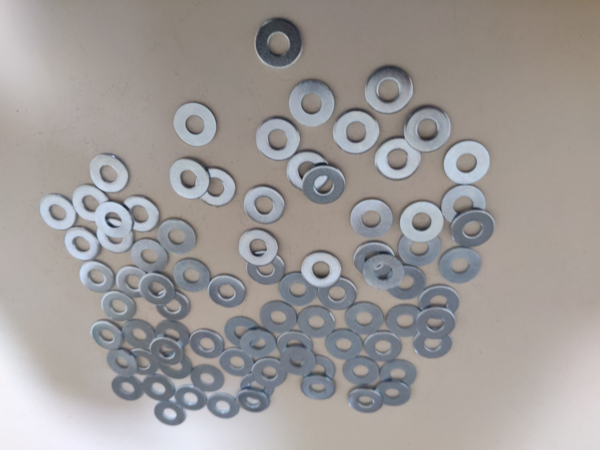circle: (255, 18, 304, 69), (365, 66, 413, 114), (405, 105, 451, 154), (289, 78, 334, 127), (332, 110, 380, 154), (444, 141, 490, 185), (256, 117, 301, 161), (376, 136, 420, 181), (173, 103, 219, 146), (400, 200, 445, 242), (442, 184, 486, 226), (302, 165, 346, 205), (287, 151, 331, 191), (244, 185, 287, 225), (89, 152, 130, 193), (170, 157, 210, 199), (350, 199, 393, 238), (196, 167, 237, 207), (451, 211, 494, 248), (364, 252, 404, 291), (439, 248, 482, 284), (397, 231, 441, 266), (239, 228, 279, 266), (301, 252, 343, 288), (354, 242, 396, 278), (385, 265, 426, 301), (317, 275, 357, 311), (122, 195, 159, 233), (71, 184, 109, 221), (39, 194, 78, 230), (247, 250, 286, 286), (418, 285, 458, 320), (96, 201, 133, 238), (97, 218, 135, 254), (158, 219, 197, 254), (278, 275, 317, 310), (385, 304, 424, 339), (173, 258, 211, 293), (345, 302, 384, 336), (130, 240, 168, 274), (209, 274, 247, 308), (298, 306, 336, 340), (417, 307, 456, 340), (413, 327, 453, 359), (64, 227, 101, 261), (260, 300, 297, 334), (325, 329, 363, 362), (78, 260, 115, 293), (116, 265, 152, 298), (139, 273, 175, 306), (224, 317, 261, 348), (240, 329, 277, 359), (364, 332, 401, 362), (379, 361, 417, 390), (102, 290, 135, 323), (122, 320, 156, 352), (157, 290, 192, 321), (277, 331, 313, 361), (280, 346, 316, 376), (240, 370, 276, 400), (155, 320, 191, 350), (91, 320, 125, 351), (252, 357, 287, 387), (190, 329, 224, 359), (301, 356, 336, 385), (344, 358, 379, 387), (220, 350, 255, 379), (374, 380, 411, 407), (159, 350, 192, 380), (191, 364, 225, 393), (348, 387, 384, 414), (150, 337, 183, 366), (300, 375, 337, 400), (106, 350, 139, 378), (126, 349, 159, 376), (207, 393, 239, 420), (175, 385, 207, 411), (154, 401, 186, 427), (143, 375, 175, 401), (237, 389, 270, 413), (112, 376, 143, 401)
